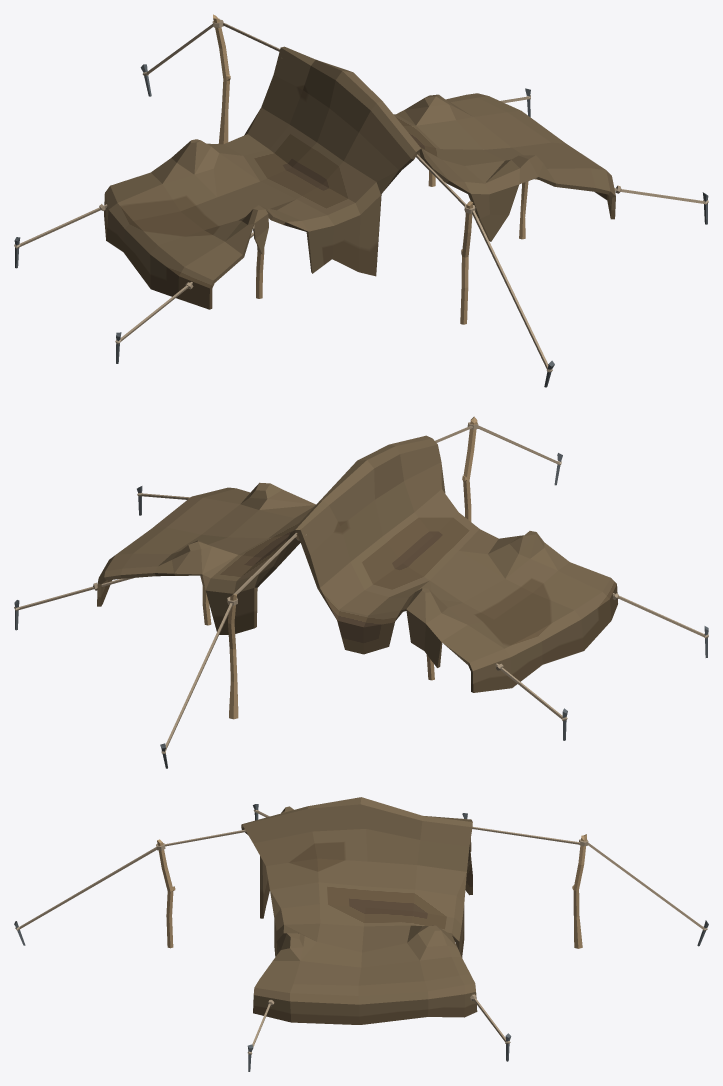
Rendered from SM_Bld_Tent_Desert_01.glb.
The picture shows the model from 3 angles, top to bottom: view 1: azimuth 30°, elevation 25°; view 2: azimuth 150°, elevation 25°; view 3: azimuth 270°, elevation 25°; orthographic projection. The views are drawn at different scales.
Visible parts, largest first — view 1: SM_Bld_Tent_Desert_01; view 2: SM_Bld_Tent_Desert_01; view 3: SM_Bld_Tent_Desert_01.
Part boxes in pixels (box(x1,y1,x2,y2)): SM_Bld_Tent_Desert_01: box(14, 14, 708, 387); SM_Bld_Tent_Desert_01: box(14, 416, 708, 768); SM_Bld_Tent_Desert_01: box(14, 797, 708, 1071).
Size of the model in its own units: 8.02 by 2.31 by 9.65.
Materials: 1 (1 with a texture image).
